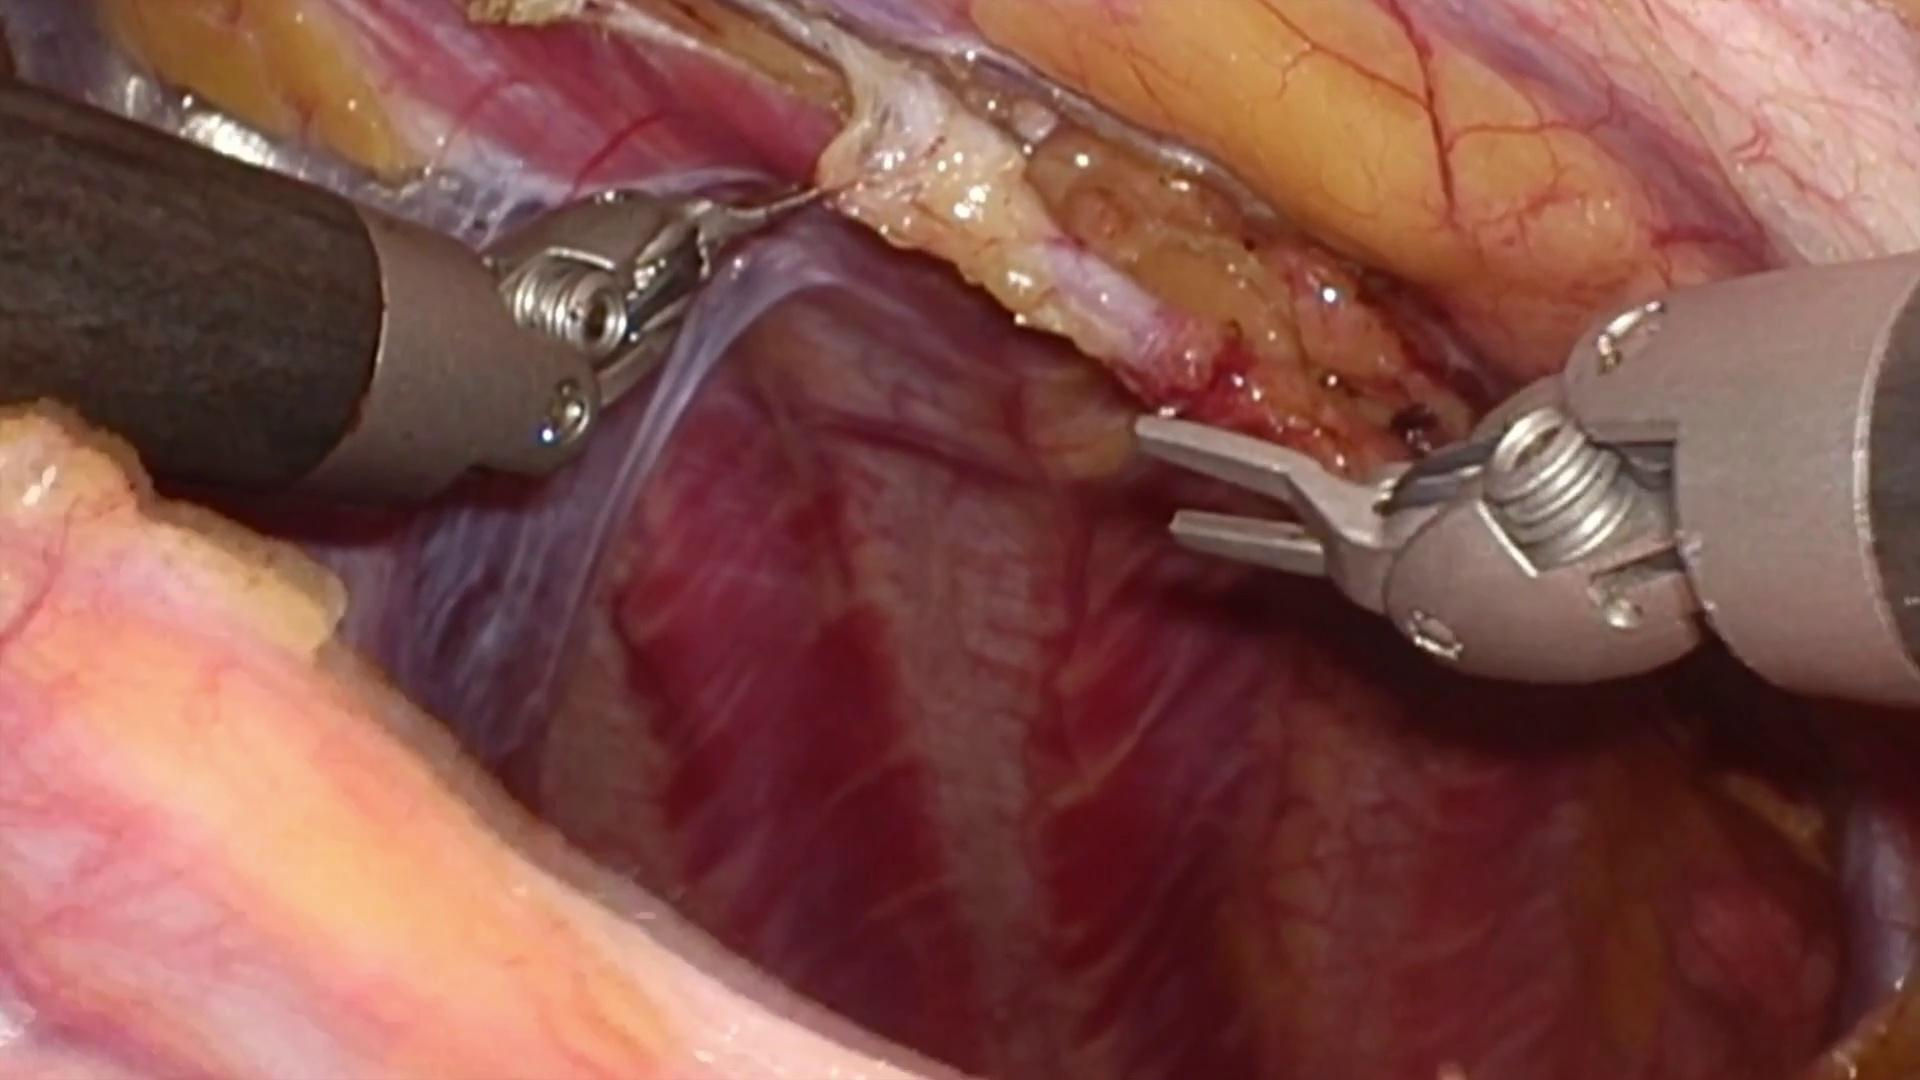Debakey: (665, 182, 835, 260)
clipper: (1135, 356, 1700, 696)
